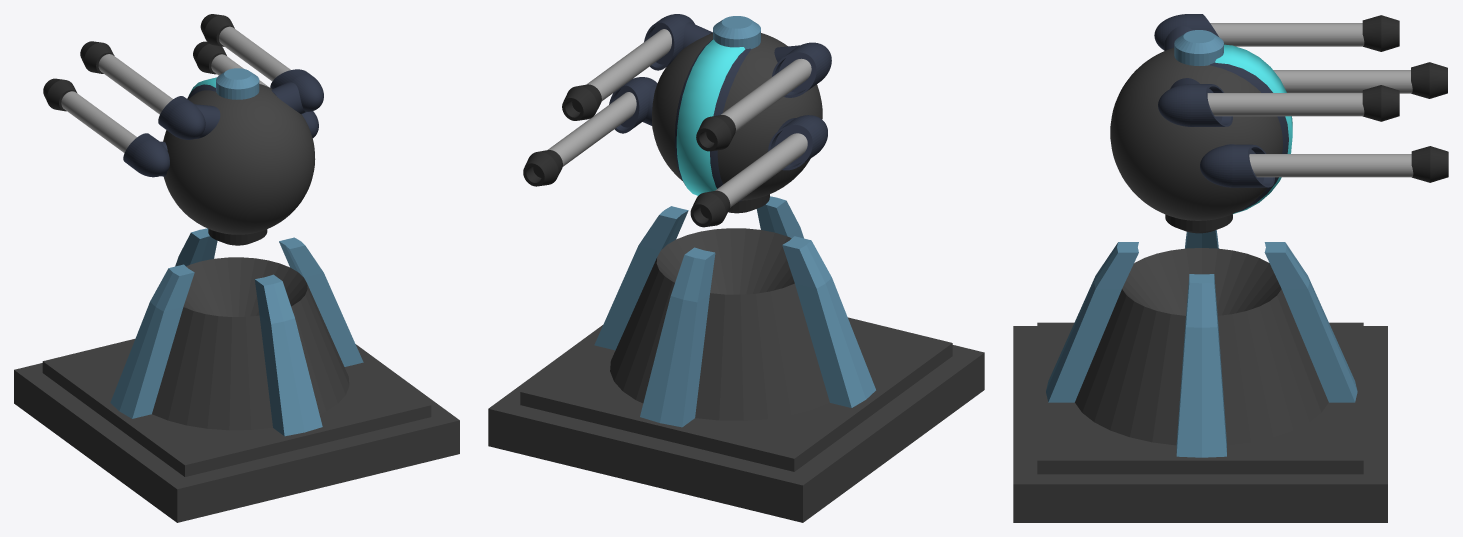
The model's file is NormalTowerJoined.fbx.
3 views of the same model, side by side, from view 1: azimuth 30°, elevation 25°; view 2: azimuth 150°, elevation 25°; view 3: azimuth 270°, elevation 25° (orthographic). The views are drawn at different scales.
Parts seen in each view (by area): view 1: Cube, Base, Body; view 2: Cube, Base, Body; view 3: Base, Body, Cube.
Boxes of the visible parts, x1,y1,x2,y2 form: Cube: (14, 339, 459, 522); Base: (110, 228, 363, 436); Body: (43, 14, 323, 245); Cube: (488, 317, 984, 522); Base: (594, 196, 875, 427); Body: (523, 14, 831, 227); Base: (1046, 230, 1357, 457); Body: (1110, 14, 1448, 233); Cube: (1013, 322, 1387, 522).
Bounding box in the file's own units: 235 × 282 × 273.
